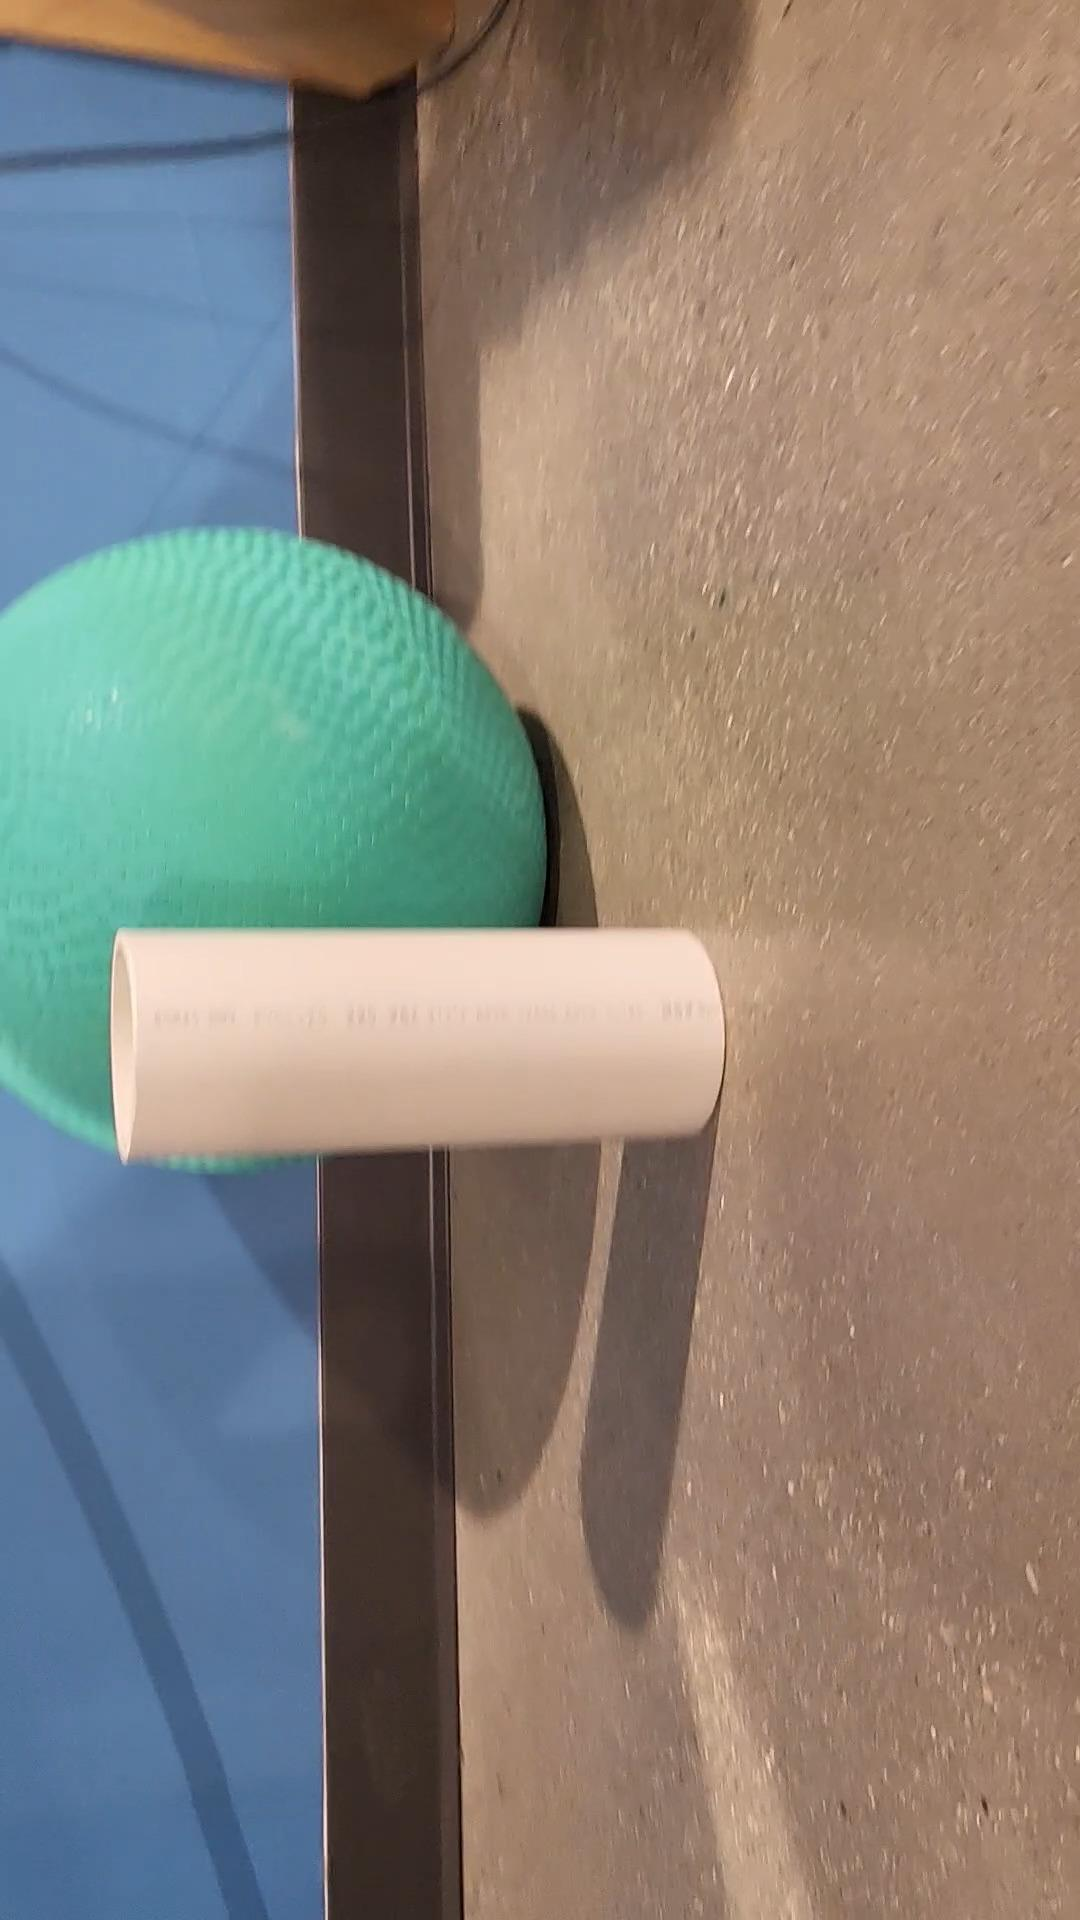algae: (0, 529, 551, 1175)
coral: (111, 922, 728, 1160)
